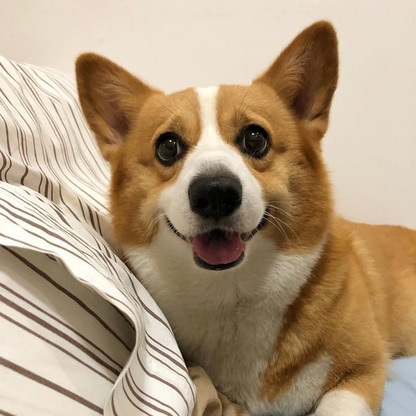Corgi: (54, 32, 405, 407)
